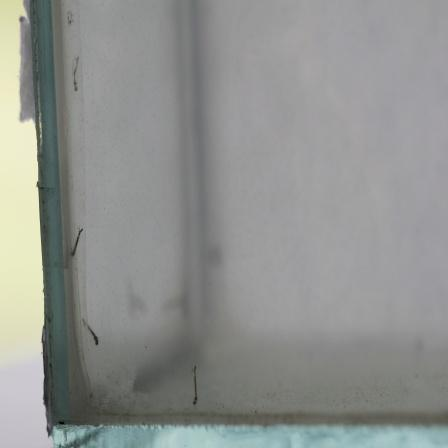Jentik-Nyamuk: (64, 224, 89, 259), (187, 359, 203, 409), (79, 313, 101, 349), (68, 53, 83, 95)
